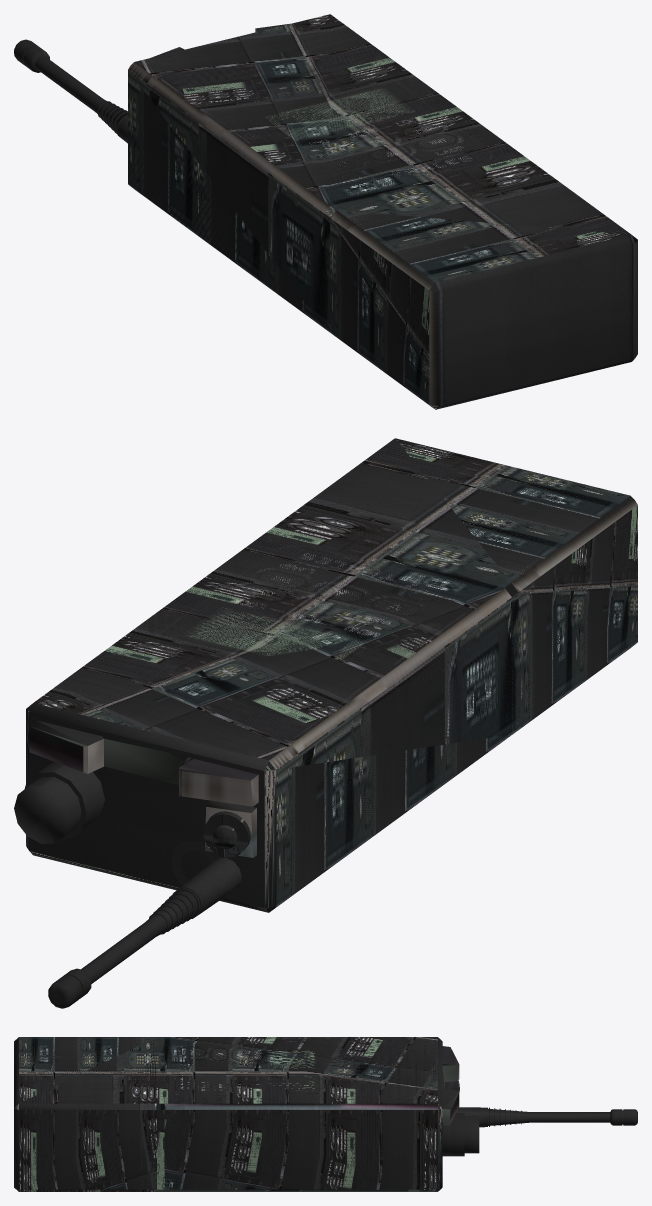
File: radio.fbx
The picture shows the model from 3 angles, top to bottom: view 1: azimuth 30°, elevation 25°; view 2: azimuth 150°, elevation 25°; view 3: azimuth 270°, elevation 25°; orthographic projection. The views are drawn at different scales.
Parts seen in each view (by area): view 1: Scene_Root; view 2: Scene_Root; view 3: Scene_Root.
Part boxes in pixels (<box>): Scene_Root: <box>14,14,637,409</box>; Scene_Root: <box>14,438,637,1008</box>; Scene_Root: <box>14,1037,637,1191</box>.
Size of the model in its own units: 0.067 by 0.039 by 0.2498.
